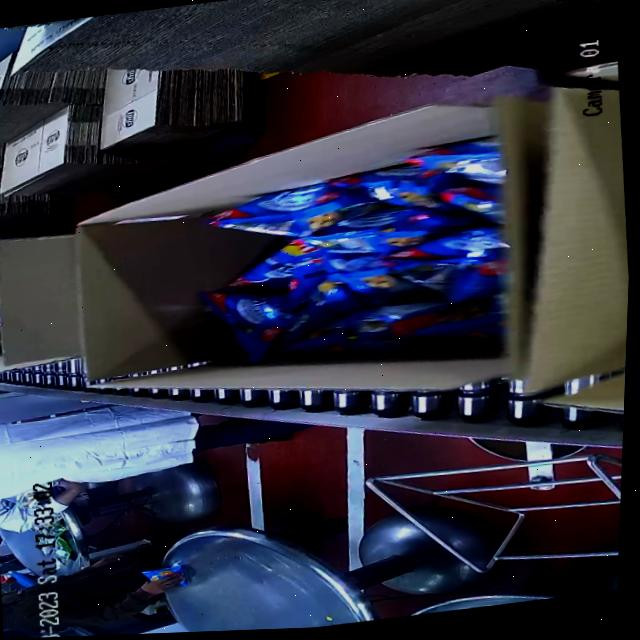PAPRIKA: (189, 133, 509, 366)
